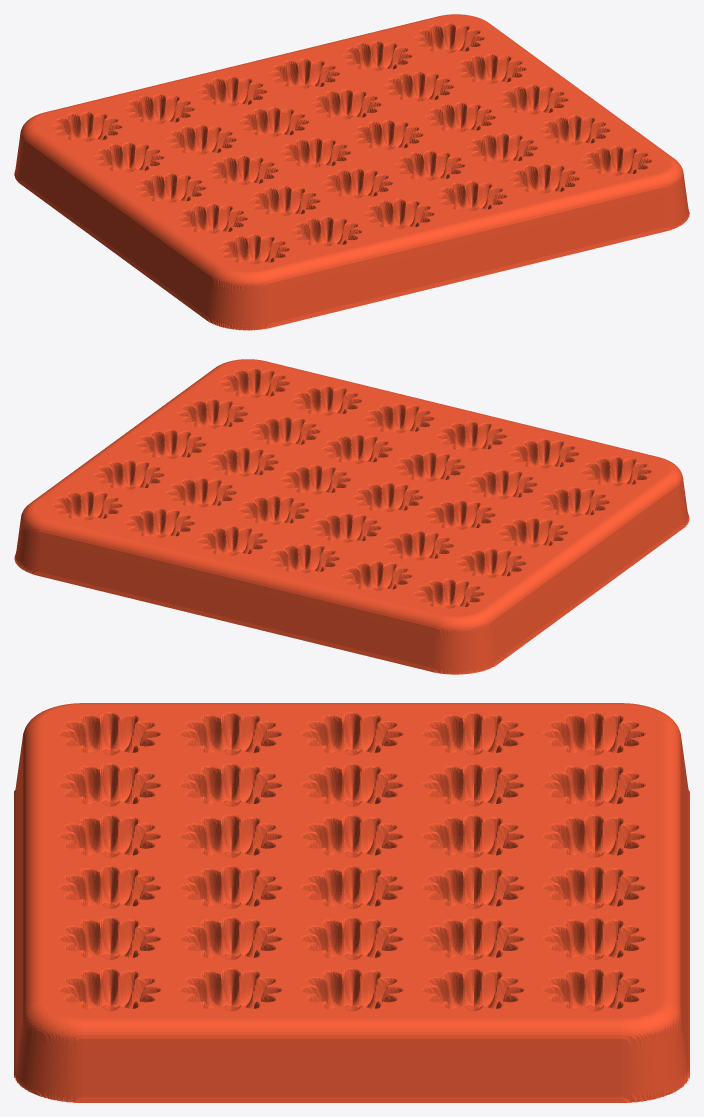
Rendered from mold.glb.
3 views of the same model, one above another, from view 1: azimuth 30°, elevation 25°; view 2: azimuth 150°, elevation 25°; view 3: azimuth 270°, elevation 25° (orthographic). The views are drawn at different scales.
Parts seen in each view (by area): view 1: geometry_0; view 2: geometry_0; view 3: geometry_0.
Part boxes in pixels (<box>): geometry_0: <box>14,14,689,330</box>; geometry_0: <box>14,359,689,674</box>; geometry_0: <box>14,703,689,1102</box>.
Size of the model in its own units: 0.104 by 0.0105 by 0.0882.
